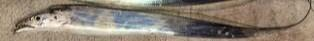fish: (15, 4, 308, 37), (306, 0, 313, 8)
